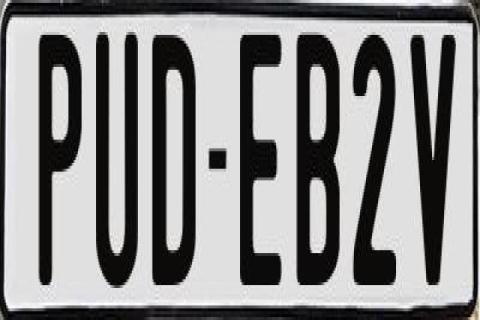0: (350, 35, 393, 291)
B: (296, 29, 344, 297)
D: (150, 32, 194, 300)
E: (238, 27, 284, 286)
P: (36, 32, 86, 291)
U: (92, 23, 136, 297)
V: (409, 29, 460, 297)
